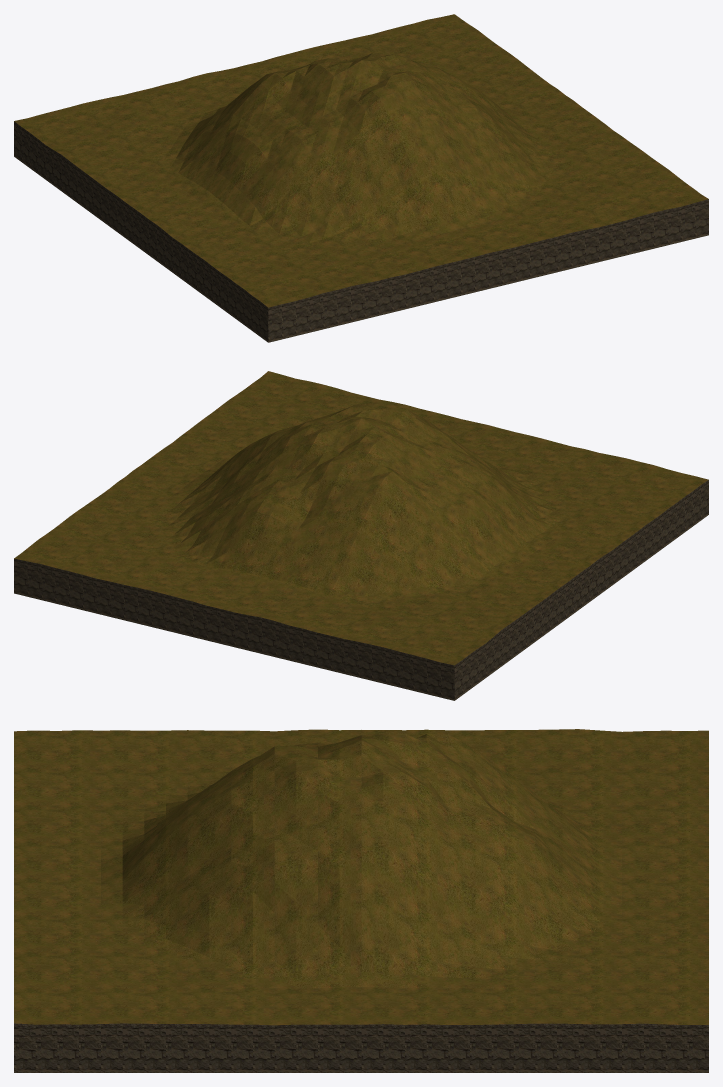
Rendered from rock_outcrop_01.glb.
3 renders of one model, top to bottom at view 1: azimuth 30°, elevation 25°; view 2: azimuth 150°, elevation 25°; view 3: azimuth 270°, elevation 25°, orthographic. The views are drawn at different scales.
Visible parts, largest first — view 1: rock_outcrop_01; view 2: rock_outcrop_01; view 3: rock_outcrop_01.
Part boxes in pixels (x1,y1,x2,y2): rock_outcrop_01: (14,14,708,342); rock_outcrop_01: (14,371,708,700); rock_outcrop_01: (14,729,708,1072).
Size of the model in its own units: 16 by 4.71 by 16.
2 materials, 2 textured.
